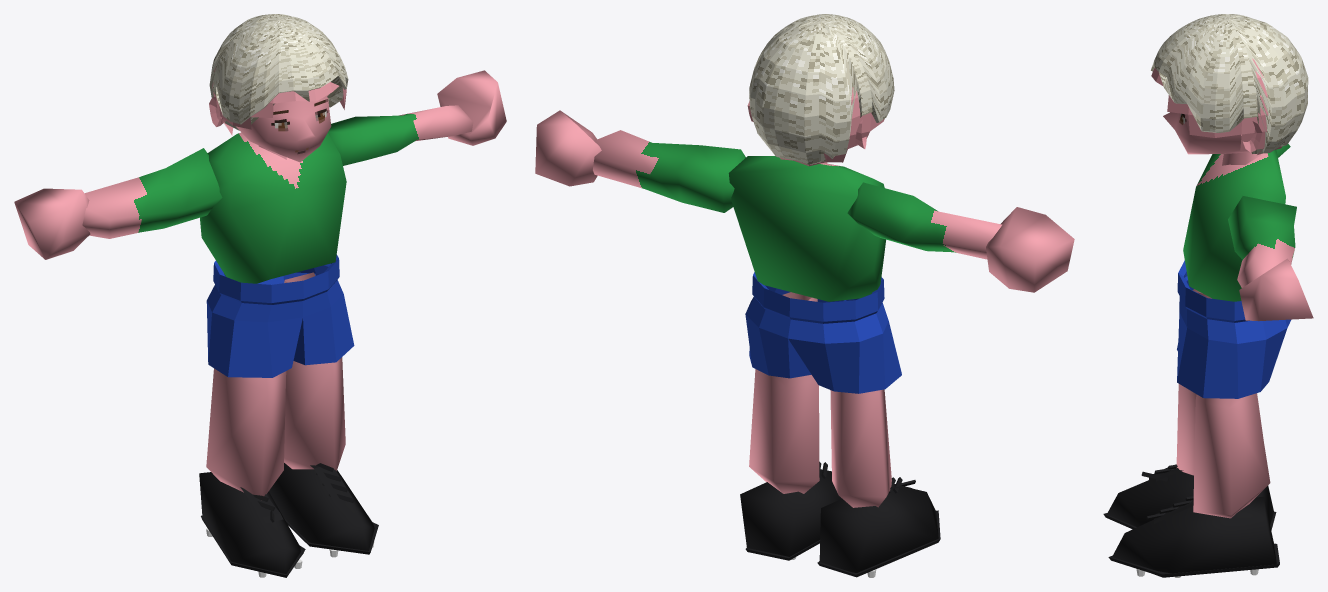
Rendered from 03-raspado_loiro-pintado.glb.
3 renders of one model, left to right at view 1: azimuth 30°, elevation 25°; view 2: azimuth 150°, elevation 25°; view 3: azimuth 270°, elevation 25°, orthographic. The views are drawn at different scales.
Parts seen in each view (by area): view 1: Camisa_Tronco, Bermuda, Cabelo, Perna.R, Braco.R, Perna.L, Chuteira.R, Chuteira.L, Braco.L, Mao.R, Cabeca, Mao.L (+3 smaller); view 2: Camisa_Tronco, Cabelo, Bermuda, Perna.L, Braco.L, Chuteira.R, Perna.R, Braco.R, Mao.R, Chuteira.L, Mao.L, Couro_Cabeludo (+1 smaller); view 3: Cabelo, Bermuda, Chuteira.L, Camisa_Tronco, Perna.L, Braco.L, Mao.L, Chuteira.R, Couro_Cabeludo, Perna.R, Cabeca, Chuteira_Sola.L (+4 smaller).
Boxes of the visible parts, left/top/right/bottom form: Camisa_Tronco: left=200, top=132, right=346, bottom=283; Bermuda: left=206, top=254, right=354, bottom=377; Cabelo: left=209, top=14, right=348, bottom=130; Perna.R: left=206, top=368, right=286, bottom=500; Braco.R: left=82, top=148, right=222, bottom=238; Perna.L: left=284, top=272, right=345, bottom=471; Chuteira.R: left=199, top=472, right=303, bottom=573; Chuteira.L: left=269, top=463, right=374, bottom=550; Braco.L: left=328, top=105, right=473, bottom=165; Mao.R: left=14, top=188, right=90, bottom=259; Cabeca: left=236, top=94, right=331, bottom=162; Mao.L: left=437, top=70, right=506, bottom=145; Camisa_Tronco: left=728, top=156, right=885, bottom=301; Cabelo: left=749, top=14, right=894, bottom=164; Bermuda: left=745, top=272, right=901, bottom=393; Perna.L: left=749, top=292, right=819, bottom=493; Braco.L: left=593, top=130, right=745, bottom=212; Chuteira.R: left=819, top=484, right=938, bottom=572; Perna.R: left=830, top=389, right=891, bottom=507; Braco.R: left=847, top=182, right=1002, bottom=259; Mao.R: left=986, top=207, right=1074, bottom=292; Chuteira.L: left=740, top=469, right=841, bottom=556; Mao.L: left=535, top=110, right=601, bottom=186; Couro_Cabeludo: left=780, top=87, right=884, bottom=166; Cabelo: left=1151, top=14, right=1308, bottom=153; Bermuda: left=1177, top=260, right=1290, bottom=398; Chuteira.L: left=1112, top=497, right=1277, bottom=577; Camisa_Tronco: left=1183, top=150, right=1285, bottom=301; Perna.L: left=1193, top=393, right=1270, bottom=518; Braco.L: left=1228, top=196, right=1296, bottom=287; Mao.L: left=1239, top=258, right=1313, bottom=321; Chuteira.R: left=1107, top=468, right=1273, bottom=527; Couro_Cabeludo: left=1151, top=58, right=1282, bottom=154; Perna.R: left=1176, top=289, right=1262, bottom=475; Cabeca: left=1163, top=112, right=1249, bottom=154; Chuteira_Sola.L: left=1108, top=543, right=1279, bottom=577.
Size of the model in its own units: 0.4523 by 0.4507 by 0.1617.
3 materials, 3 textured.
